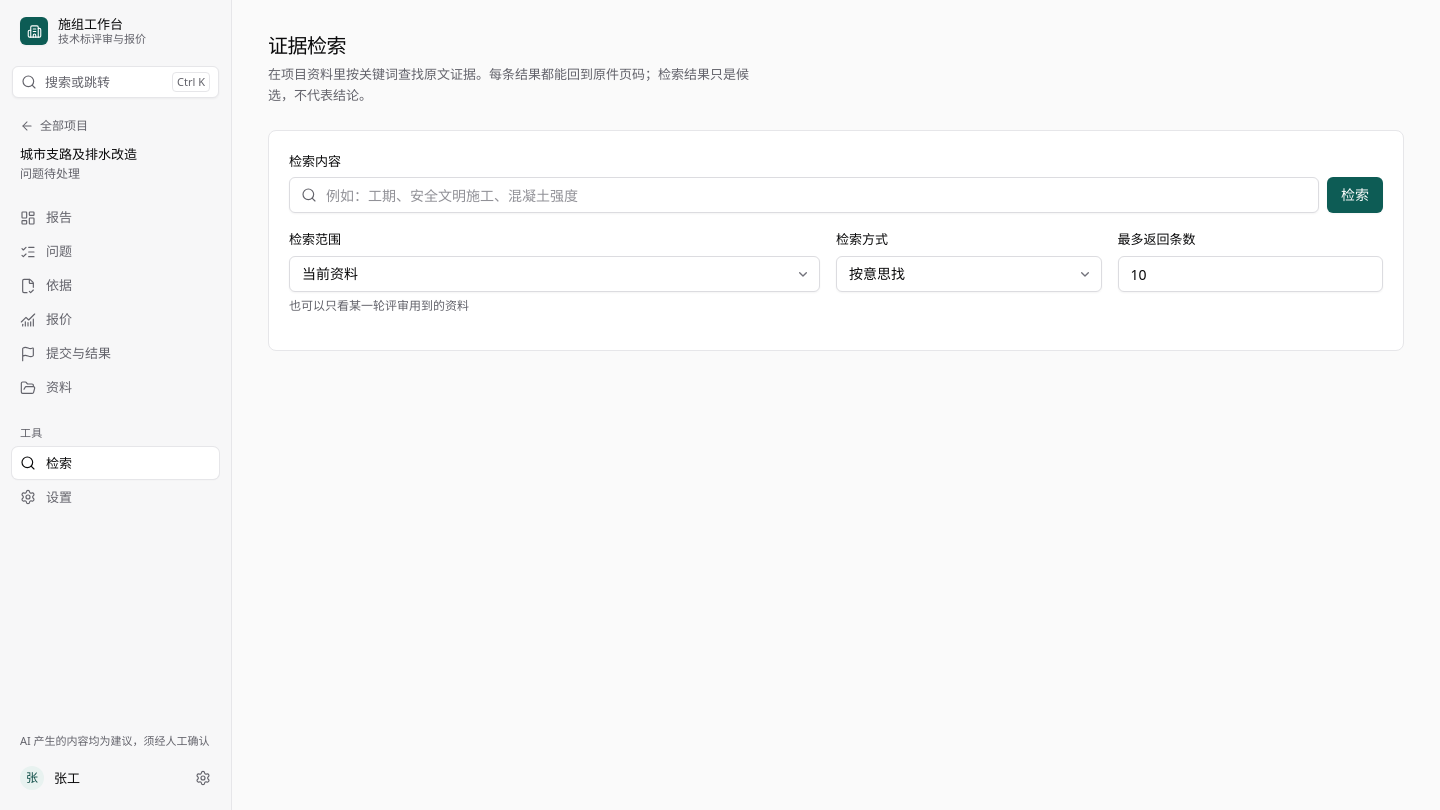
Test case: 证据检索页 › 无结果与后端错误
Type "x" into the field labelled "检索内容" at (804, 195), box x1=289 y1=177 x2=1319 y2=213
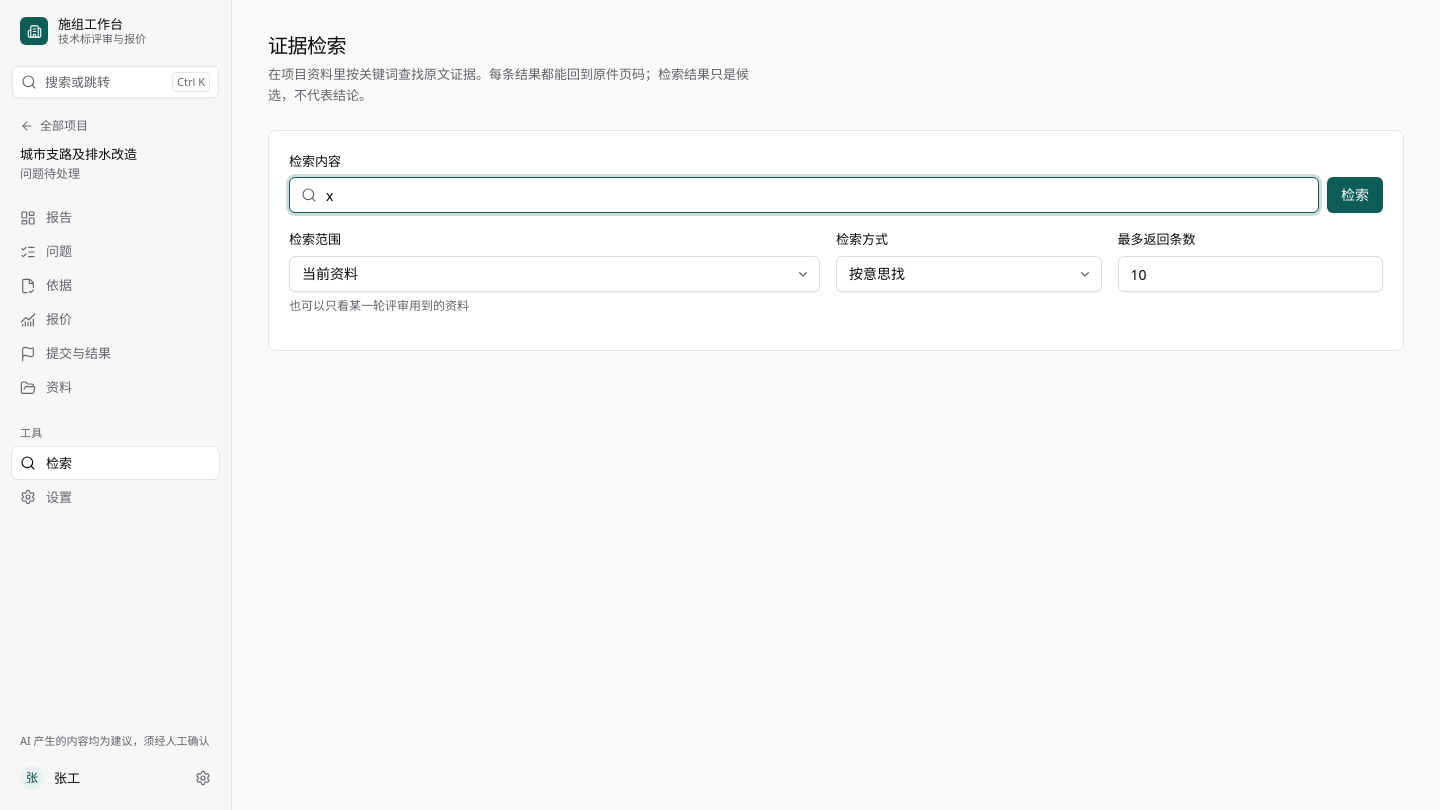
Click the button "检索" at (1355, 195), box x1=1327 y1=177 x2=1383 y2=213
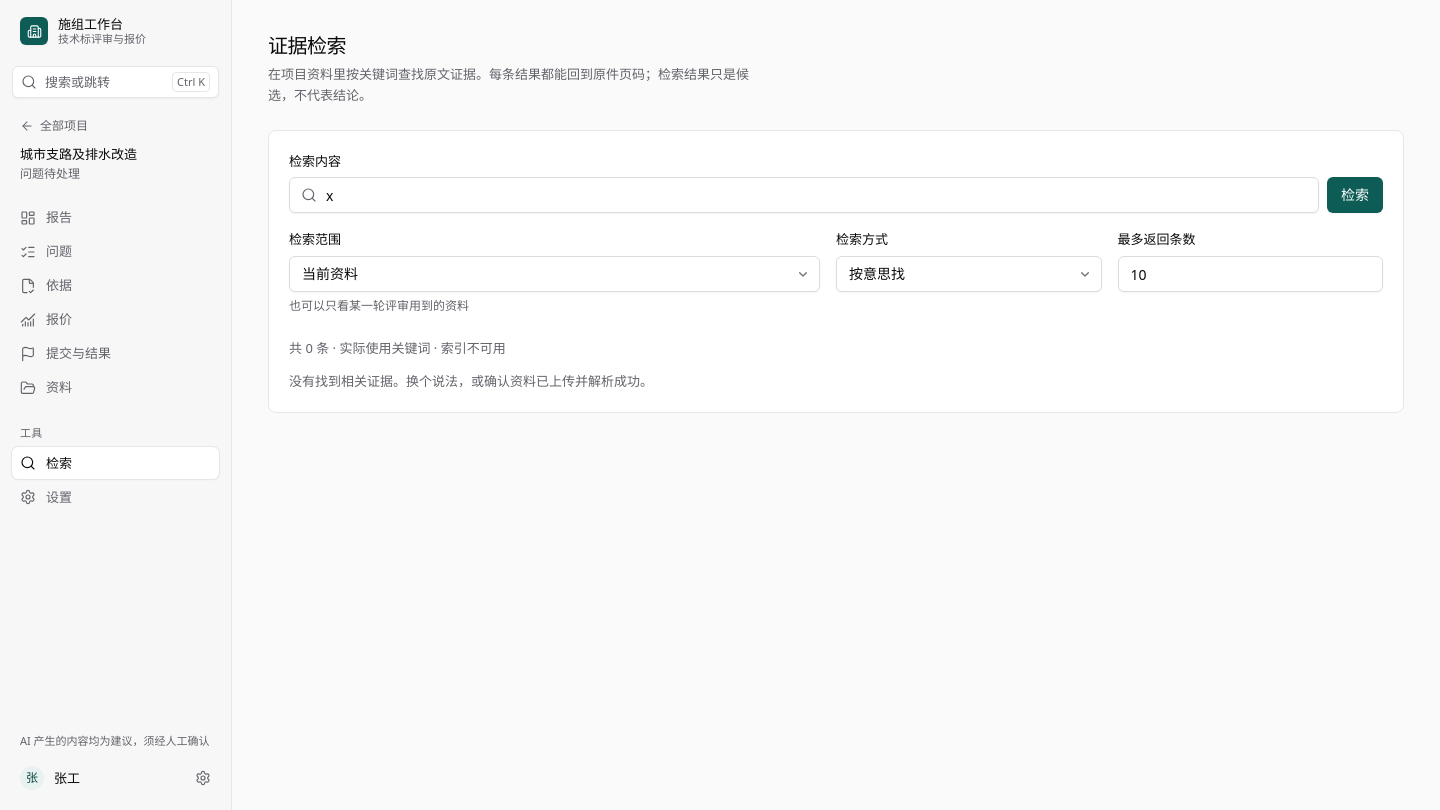
Now the text "没有找到相关证据。换个说法，或确认资料已上传并解析成功。" is shown, box x1=289 y1=372 x2=653 y2=390
Click the button "检索" at (1355, 195), box x1=1327 y1=177 x2=1383 y2=213
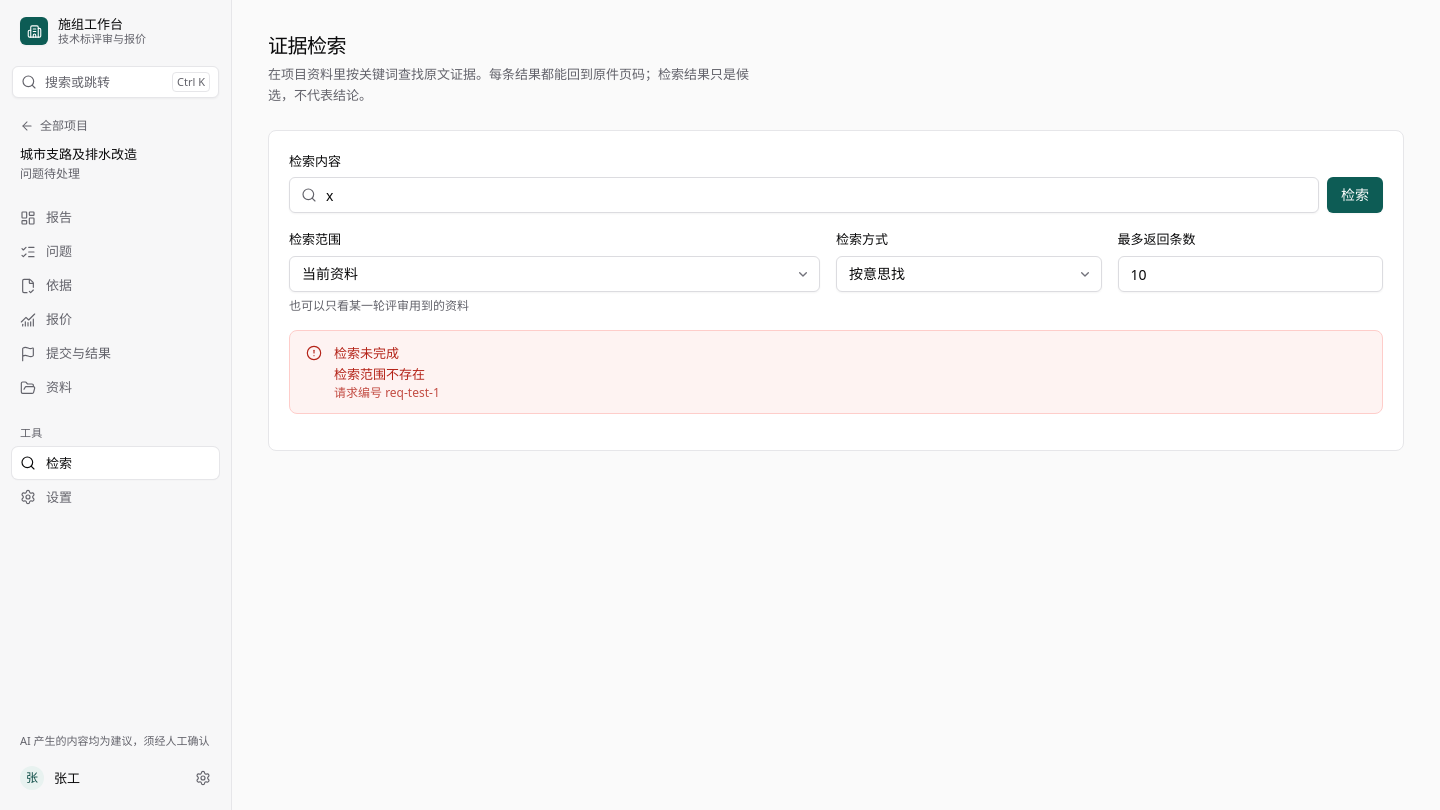
Now the text "检索范围不存在" is shown, box x1=334 y1=365 x2=425 y2=383
